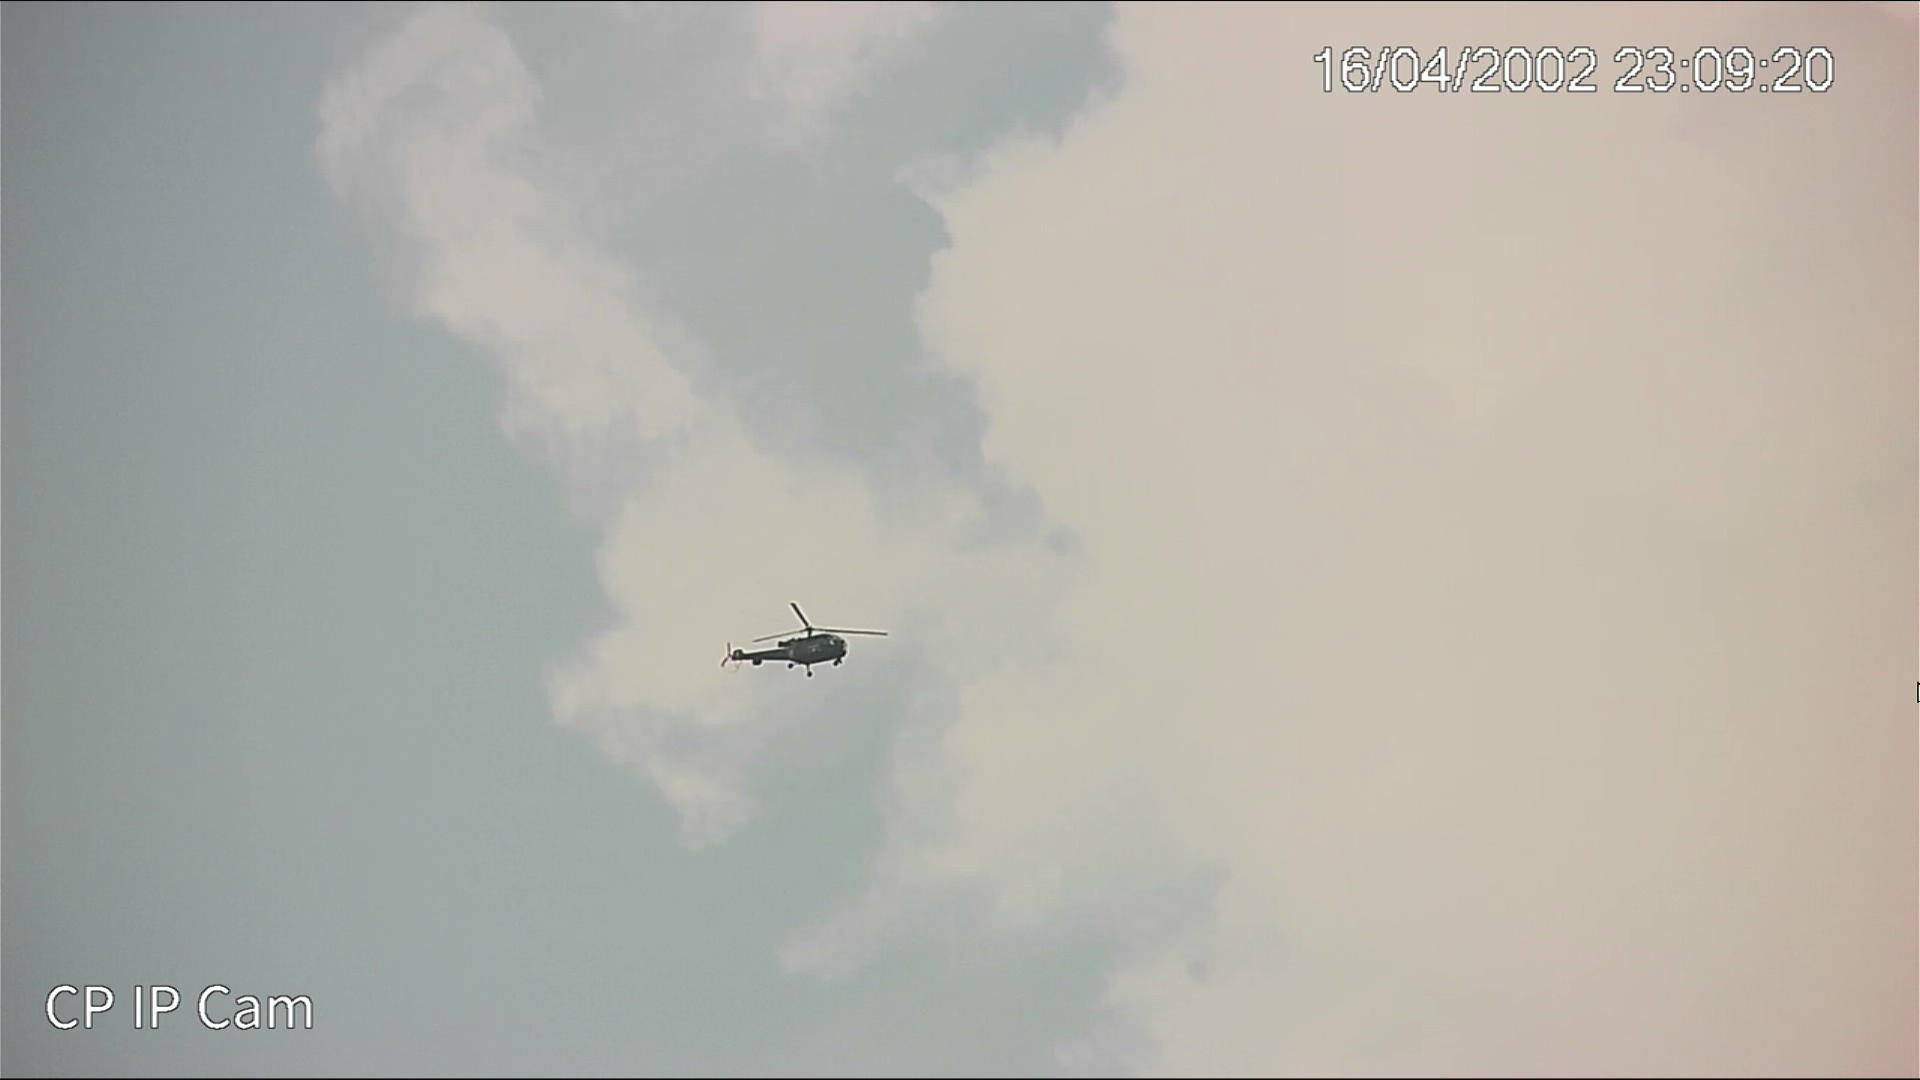SU_30: (723, 625, 858, 680)
